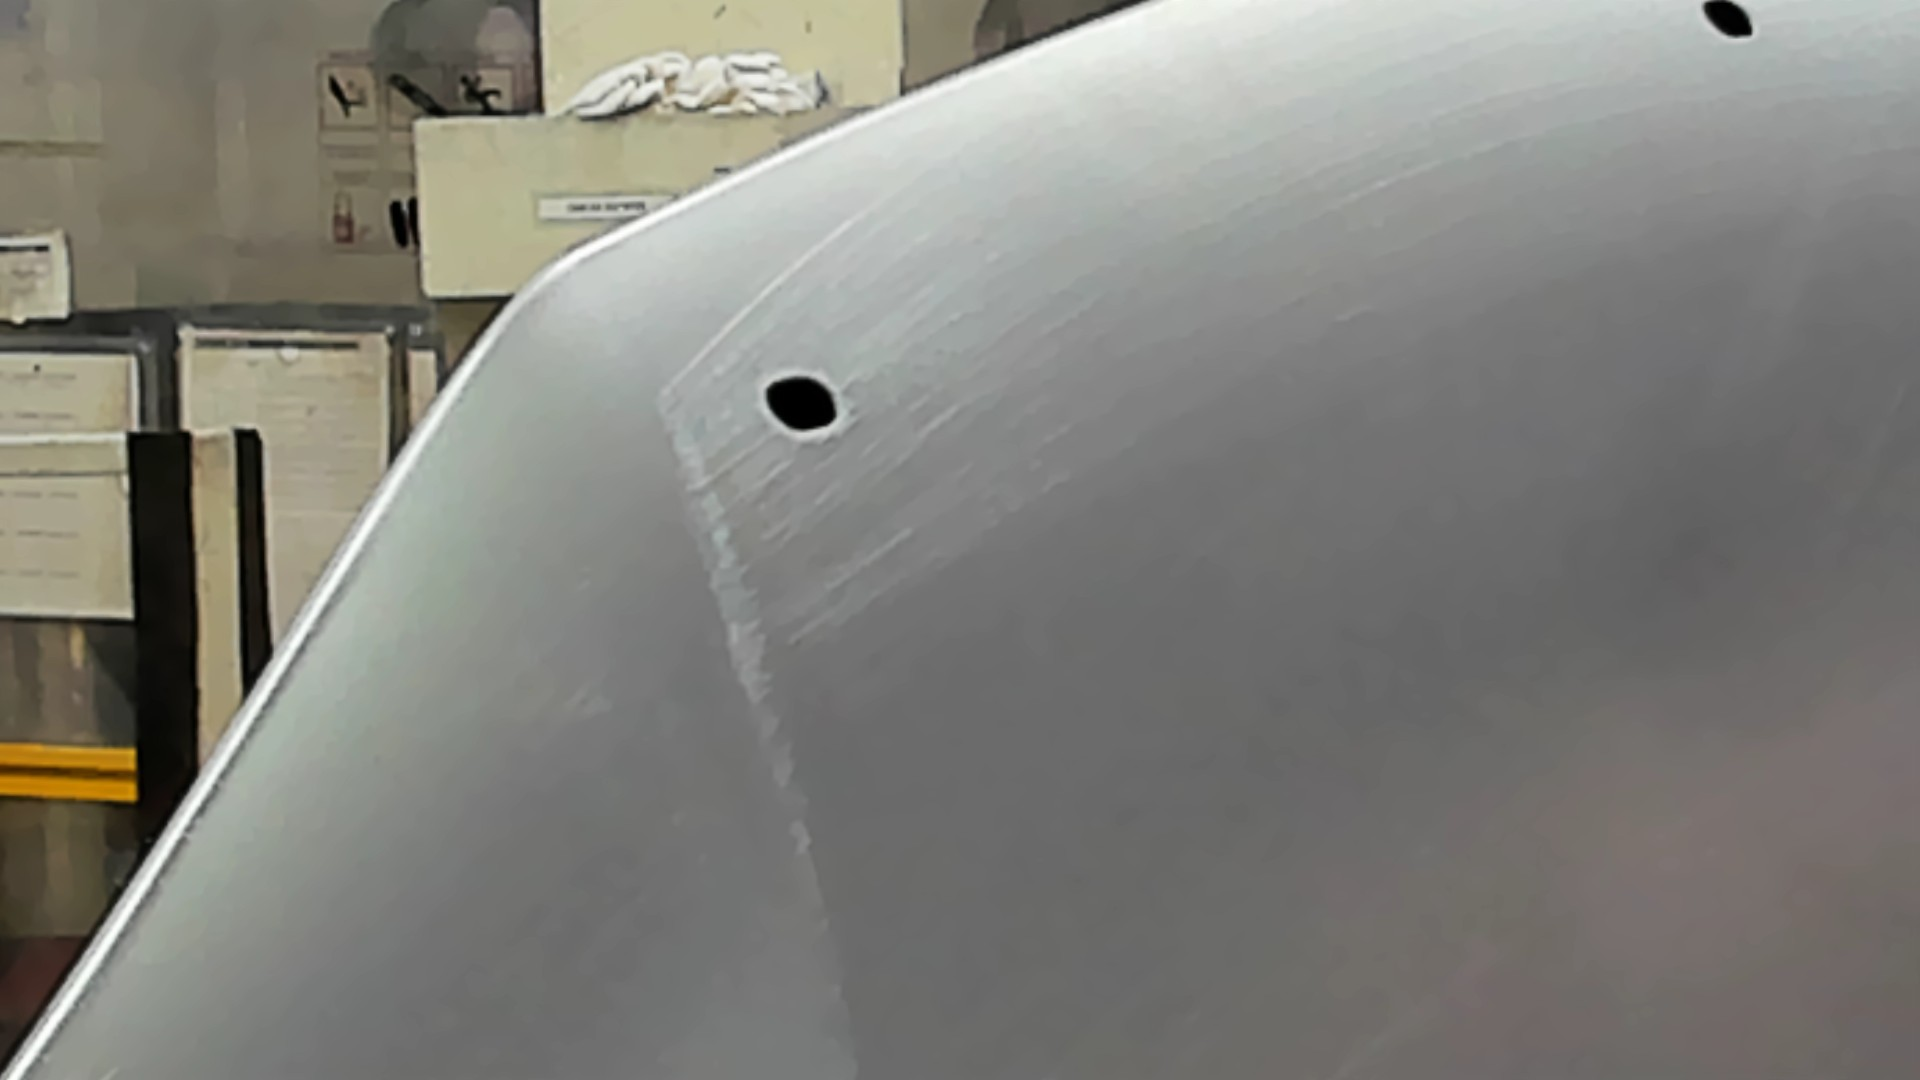amorfo: (756, 365, 858, 444), (1696, 1, 1766, 47)
capo: (947, 120, 1920, 1080)
